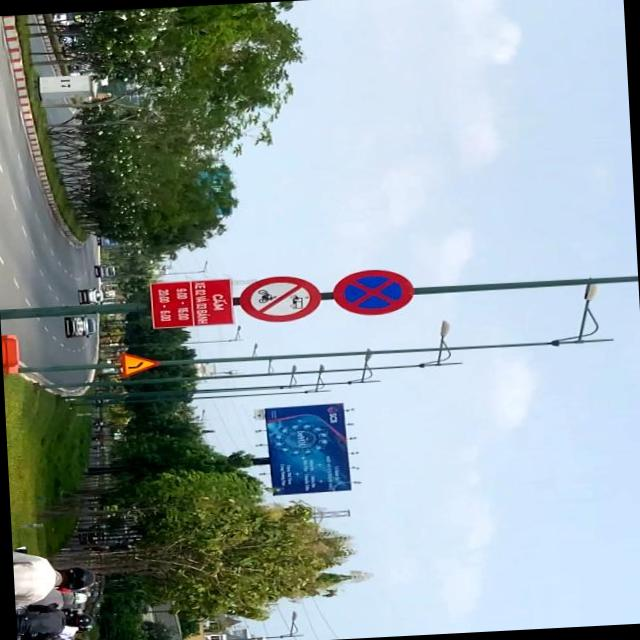P-104: (239, 275, 321, 323)
P-130: (332, 269, 416, 315)
